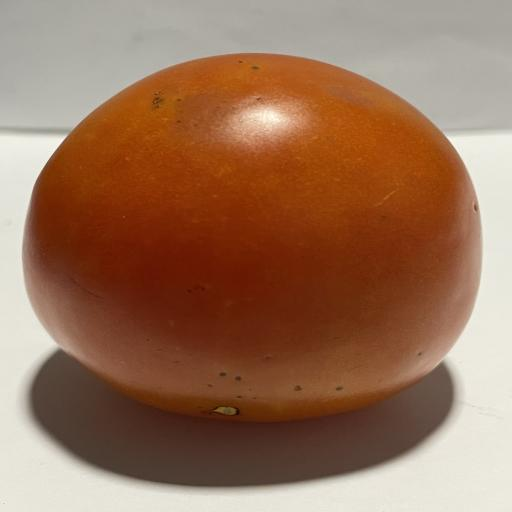ripe: (23, 54, 481, 422)
